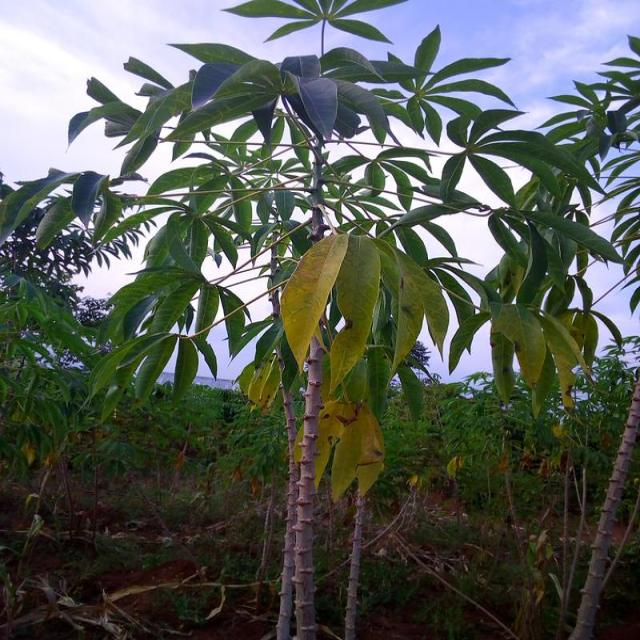cassava leaf: (1, 1, 637, 502), (279, 232, 349, 374), (327, 232, 381, 394)
